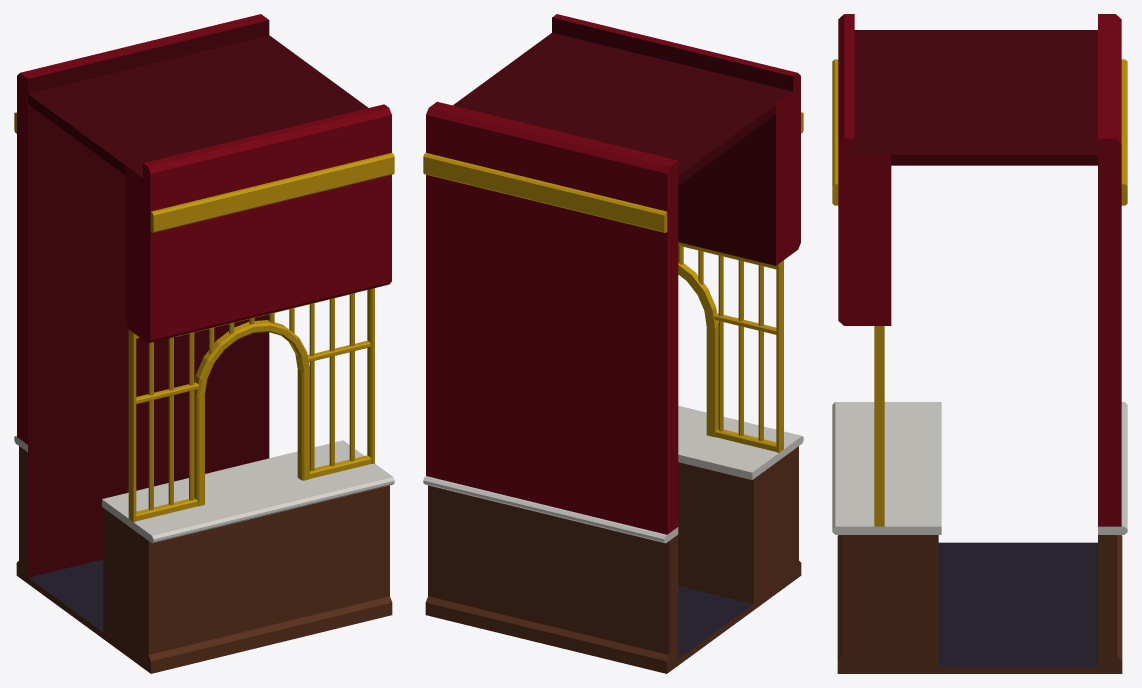
Rendered from cashier-cage-module-c211d3.glb.
The picture shows the model from 3 angles, left to right: view 1: azimuth 30°, elevation 25°; view 2: azimuth 150°, elevation 25°; view 3: azimuth 270°, elevation 25°; orthographic projection. The views are drawn at different scales.
Visible parts, largest first — view 1: cage; view 2: cage; view 3: cage.
Boxes of the visible parts, x1=… form: cage: x1=14, y1=14, x2=394, y2=673; cage: x1=423, y1=14, x2=803, y2=673; cage: x1=832, y1=14, x2=1127, y2=673.
Size of the model in its own units: 2 by 4 by 2.
